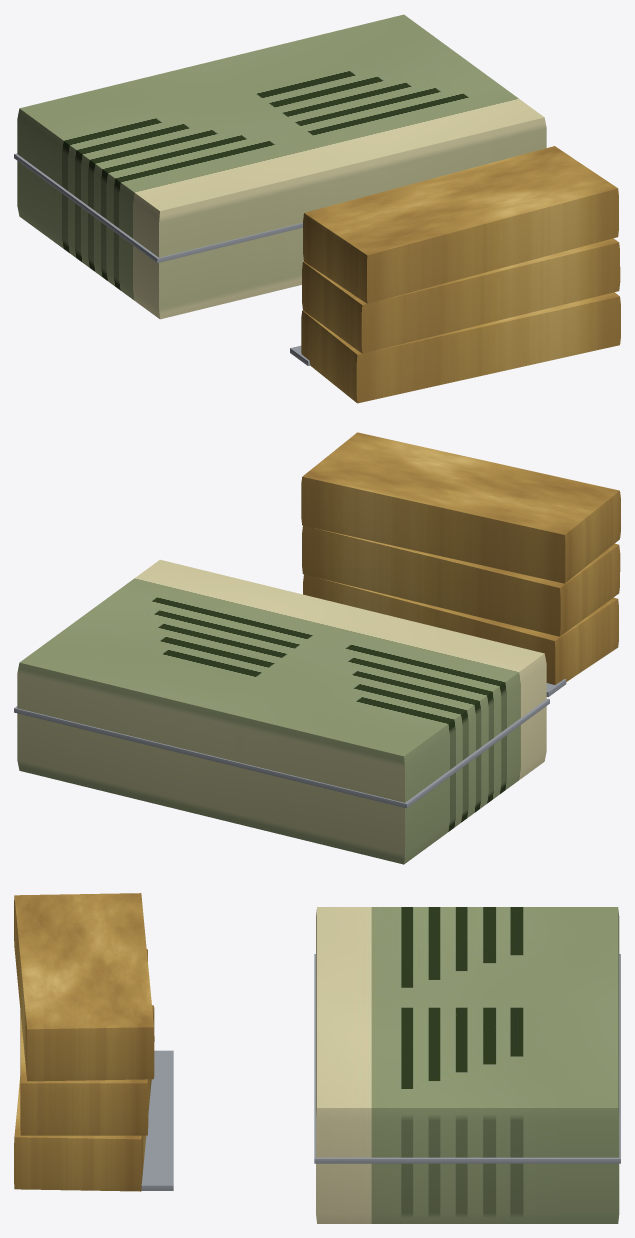
The model's file is ration_ration_brick_pack.glb.
3 renders of one model, top to bottom at view 1: azimuth 30°, elevation 25°; view 2: azimuth 150°, elevation 25°; view 3: azimuth 270°, elevation 25°, orthographic. The views are drawn at different scales.
Parts seen in each view (by area): view 1: ration_ration_brick_pack; view 2: ration_ration_brick_pack; view 3: ration_ration_brick_pack.
Part boxes in pixels (x1=…): ration_ration_brick_pack: x1=14, y1=14, x2=620, y2=403; ration_ration_brick_pack: x1=14, y1=432, x2=620, y2=864; ration_ration_brick_pack: x1=14, y1=893, x2=620, y2=1223.
Size of the model in its own units: 0.152 by 0.0562 by 0.19.
Materials: 3 (2 with a texture image).
